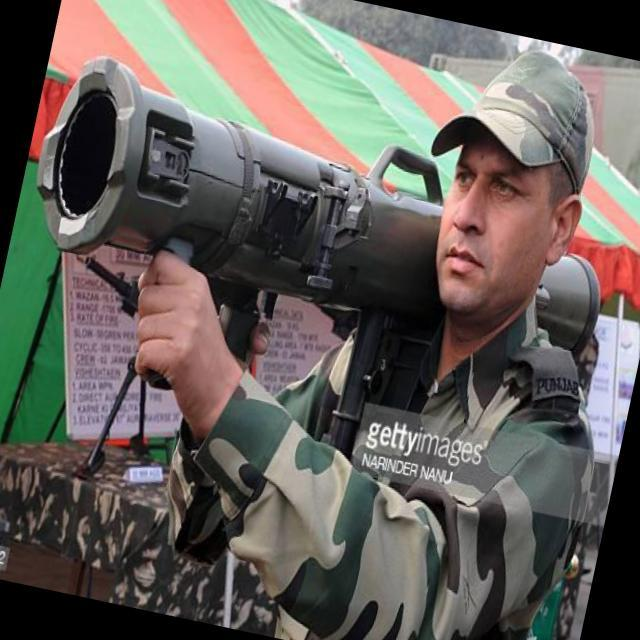rocket: (29, 34, 634, 368)
